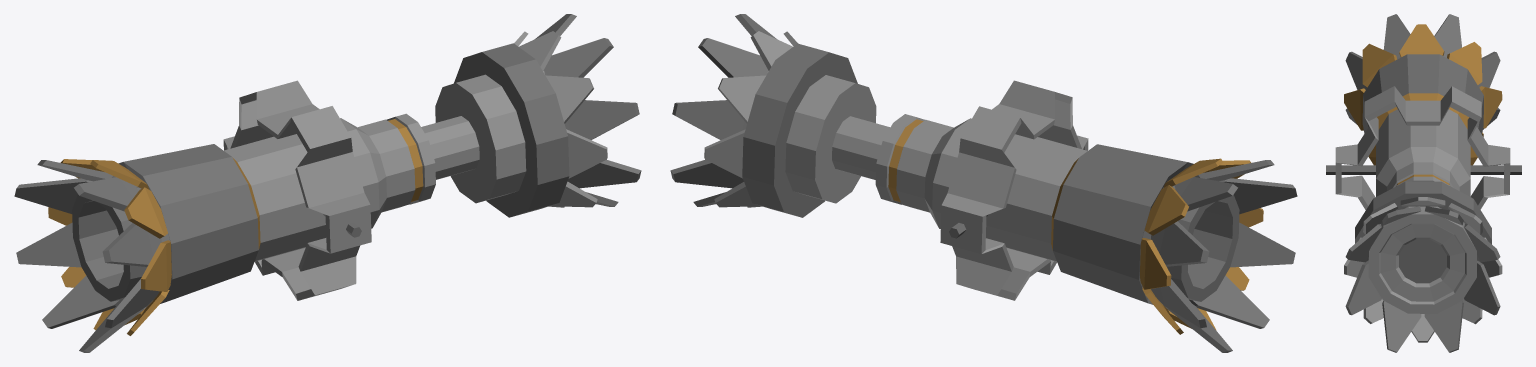
File: laser.glb
3 views of the same model, side by side, from view 1: azimuth 30°, elevation 25°; view 2: azimuth 150°, elevation 25°; view 3: azimuth 270°, elevation 25° (orthographic). The views are drawn at different scales.
Visible parts, largest first — view 1: Props_Laser; view 2: Props_Laser; view 3: Props_Laser.
Part boxes in pixels (x1,y1,x2,y2): Props_Laser: [14, 14, 641, 352]; Props_Laser: [670, 14, 1297, 352]; Props_Laser: [1326, 14, 1521, 352].
Size of the model in its own units: 3.84 by 1.29 by 1.46.
